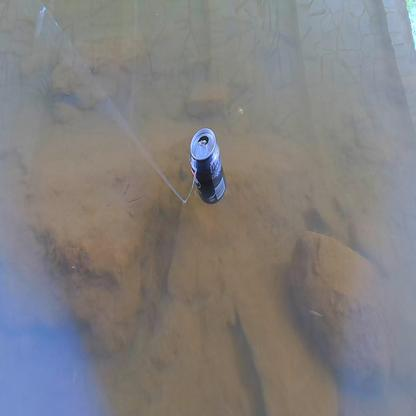can: (189, 128, 227, 205)
